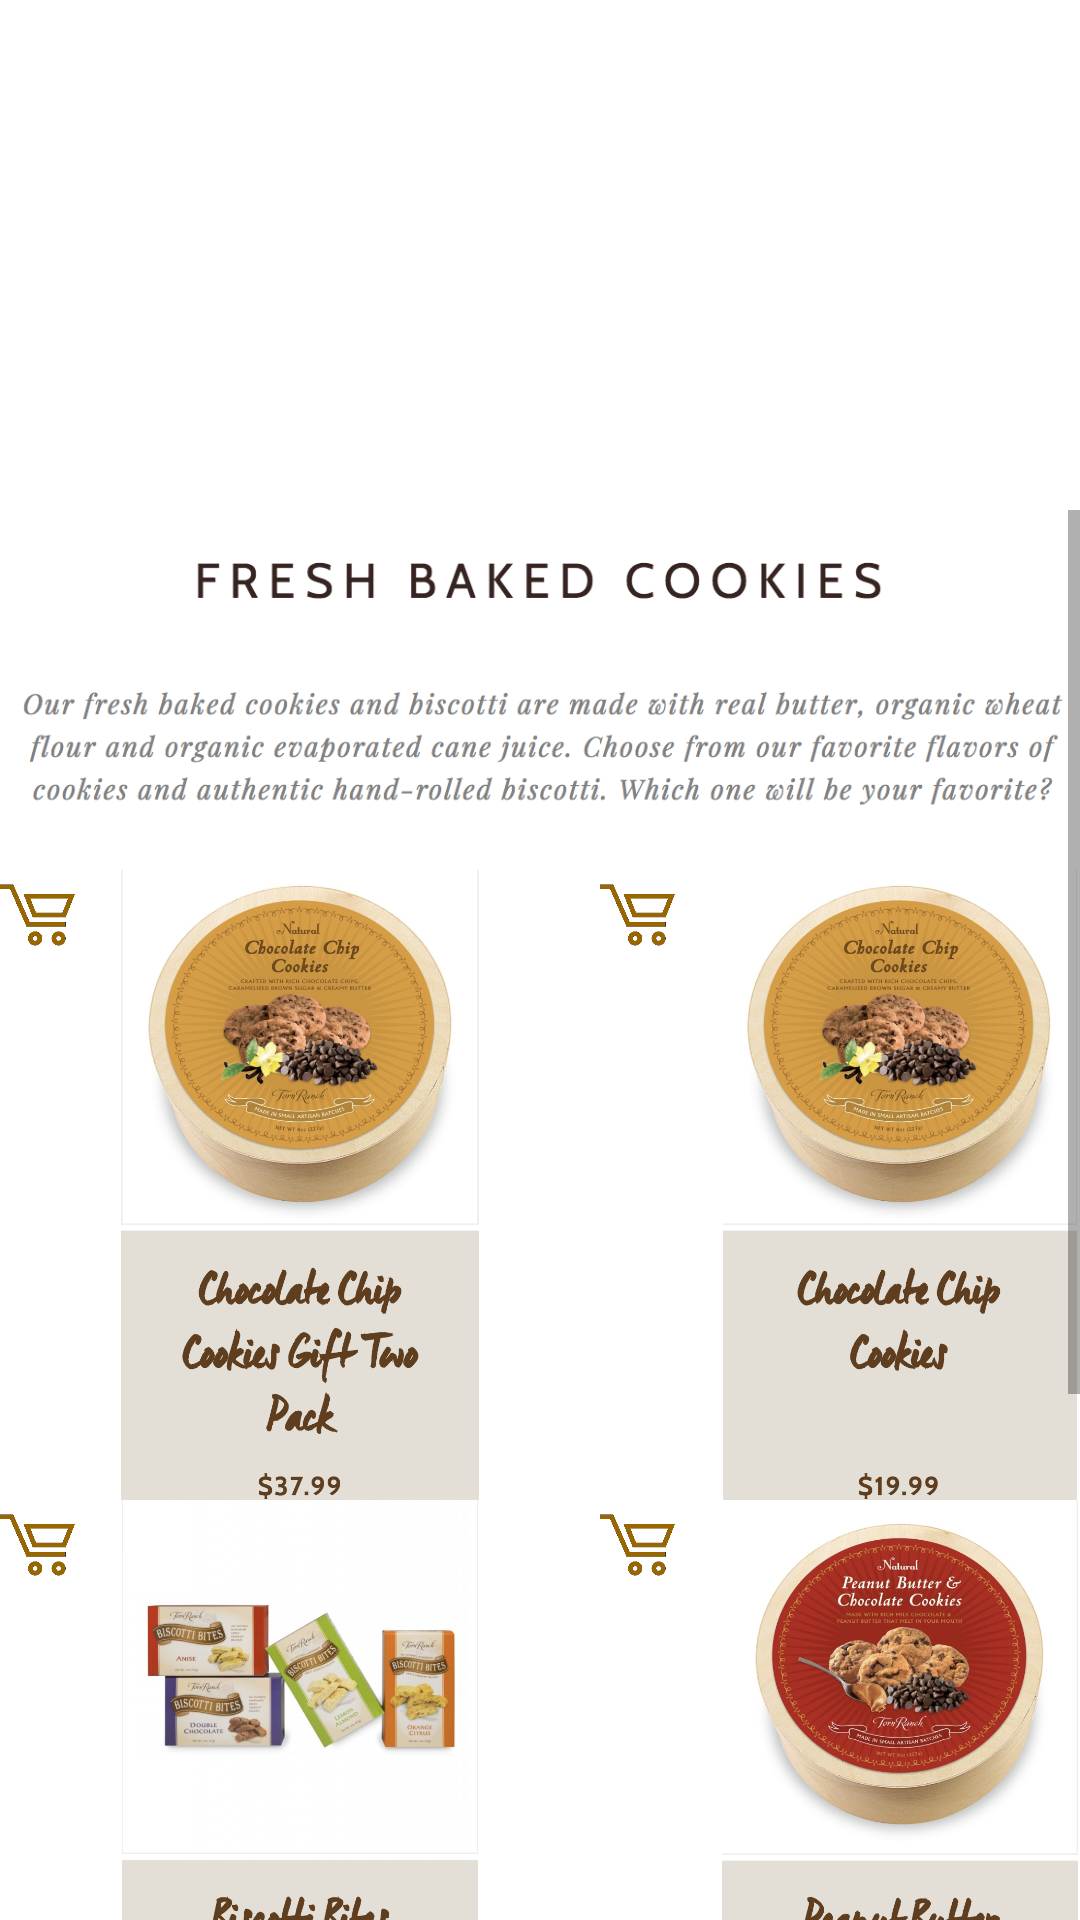

Screen size 1080 × 1920. Icon name, then its box in pixels as (x1, y1, x2, y2):
cart: (0, 884, 75, 946), (600, 884, 675, 946), (0, 1514, 75, 1576), (600, 1514, 675, 1576)
